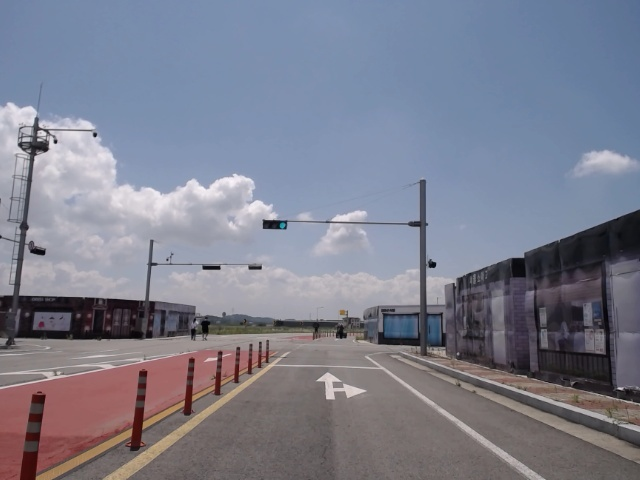green_3: (263, 220, 287, 229)
